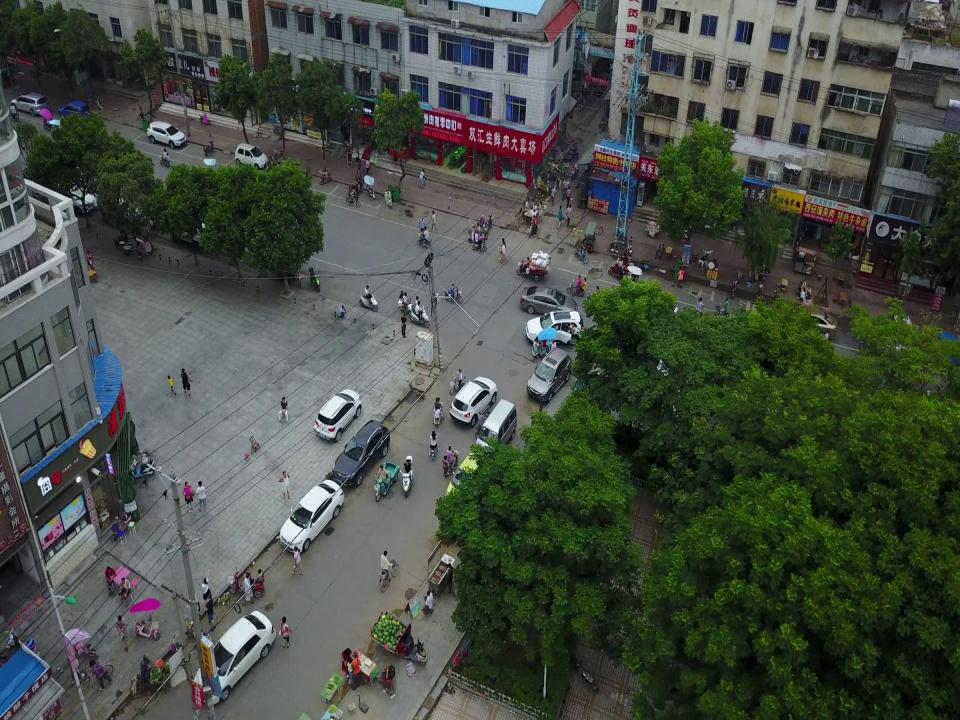car: (192, 610, 276, 707), (278, 479, 344, 554), (332, 419, 390, 486), (444, 450, 488, 509), (314, 389, 362, 442), (449, 376, 497, 428), (526, 348, 572, 402), (525, 310, 585, 346), (519, 285, 578, 320), (782, 305, 838, 340), (49, 180, 97, 216), (98, 196, 148, 225), (170, 218, 218, 247), (146, 121, 186, 149), (10, 91, 50, 117), (234, 143, 268, 169), (58, 100, 92, 122), (125, 457, 155, 478), (308, 266, 321, 292), (468, 231, 487, 247)
van: (476, 398, 518, 458)
